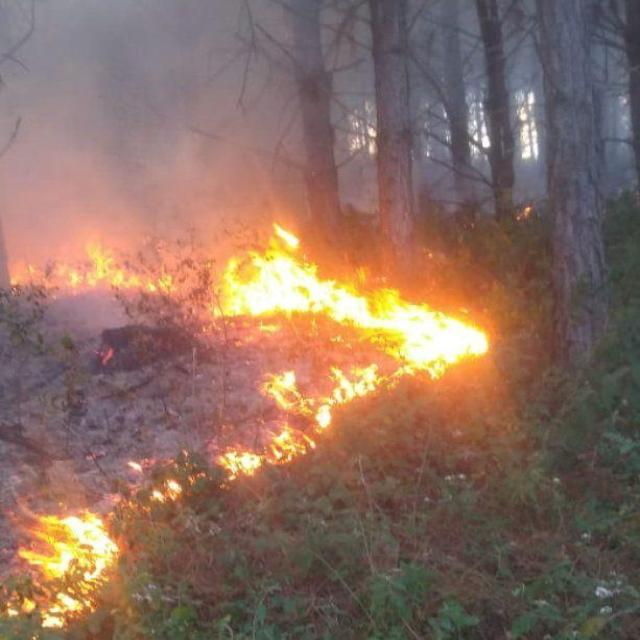Fire: (153, 221, 497, 522), (21, 498, 121, 632), (21, 248, 170, 296)
